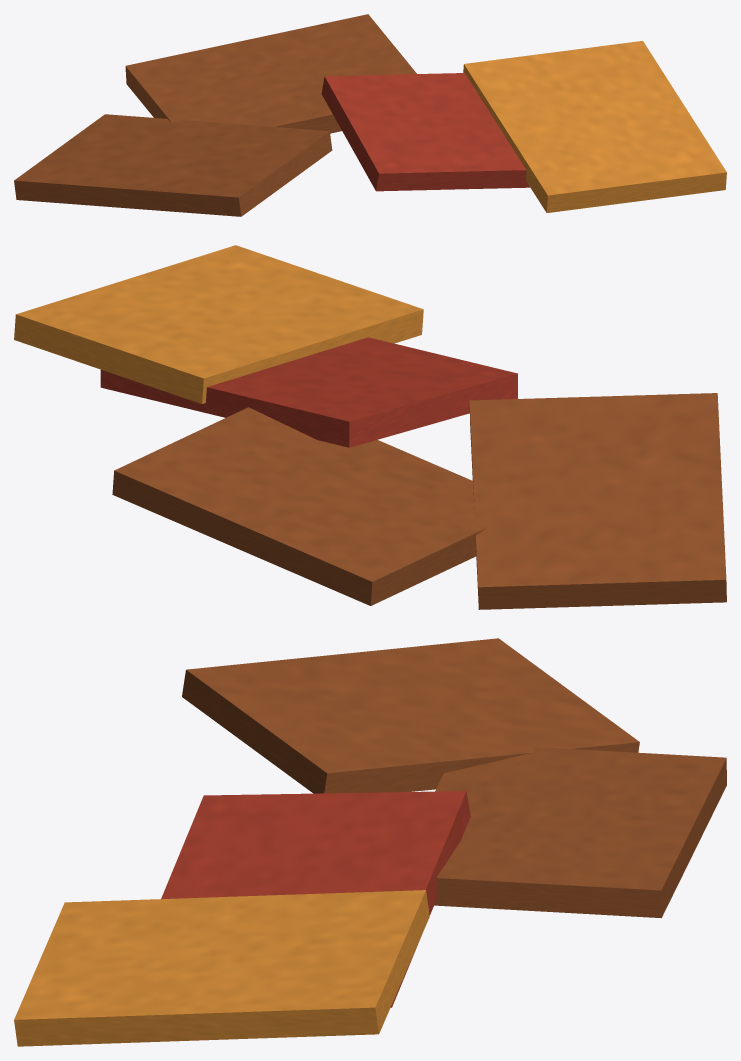
Rendered from Deco_Feuilles_A.obj.
3 renders of one model, top to bottom at view 1: azimuth 30°, elevation 25°; view 2: azimuth 150°, elevation 25°; view 3: azimuth 270°, elevation 25°, orthographic. The views are drawn at different scales.
Visible parts, largest first — view 1: Deco_Feuilles_A; view 2: Deco_Feuilles_A; view 3: Deco_Feuilles_A.
Boxes of the visible parts, left/top/right/bottom form: Deco_Feuilles_A: left=14, top=14, right=726, bottom=216; Deco_Feuilles_A: left=14, top=245, right=726, bottom=609; Deco_Feuilles_A: left=14, top=638, right=726, bottom=1046.
Size of the model in its own units: 1.96 by 0.2138 by 1.44.
1 material, 1 textured.
